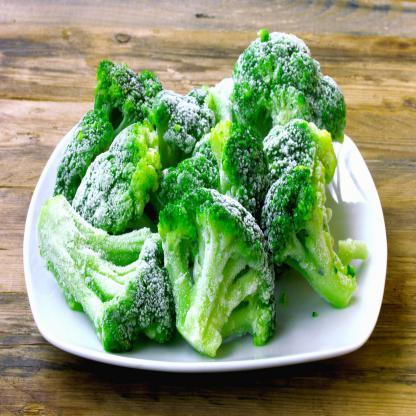broccoli: (38, 26, 372, 363)
